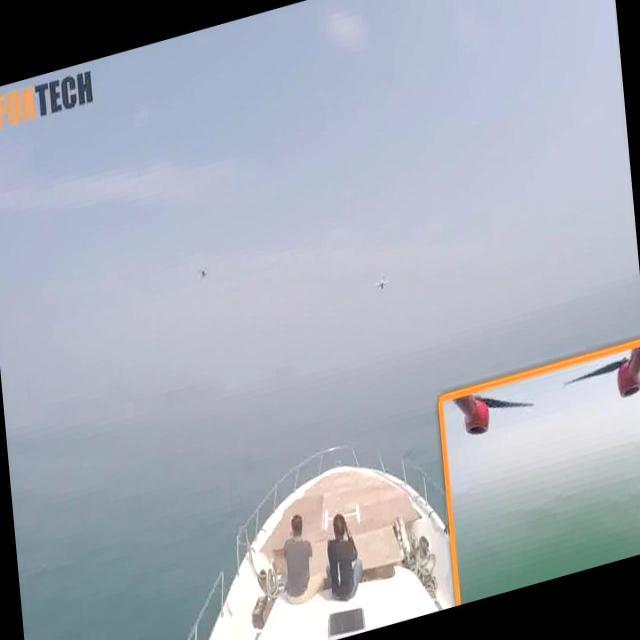drone: (368, 266, 394, 296), (194, 262, 214, 284)
